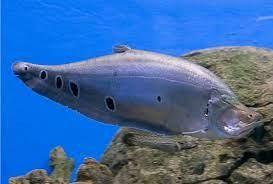Knifefish: (11, 44, 259, 140)
